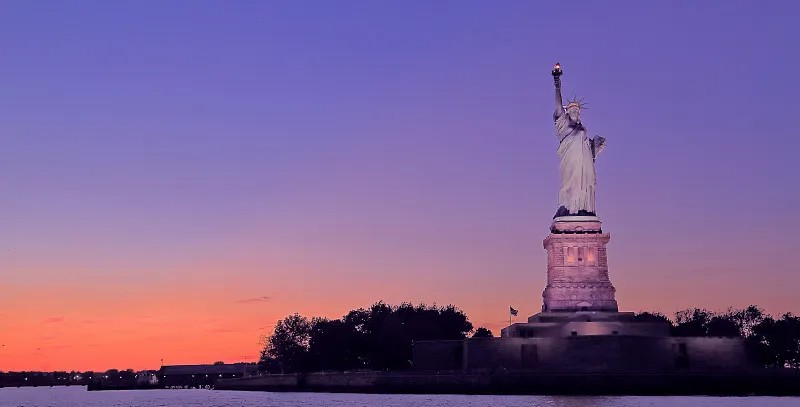SL: (540, 62, 619, 312)
